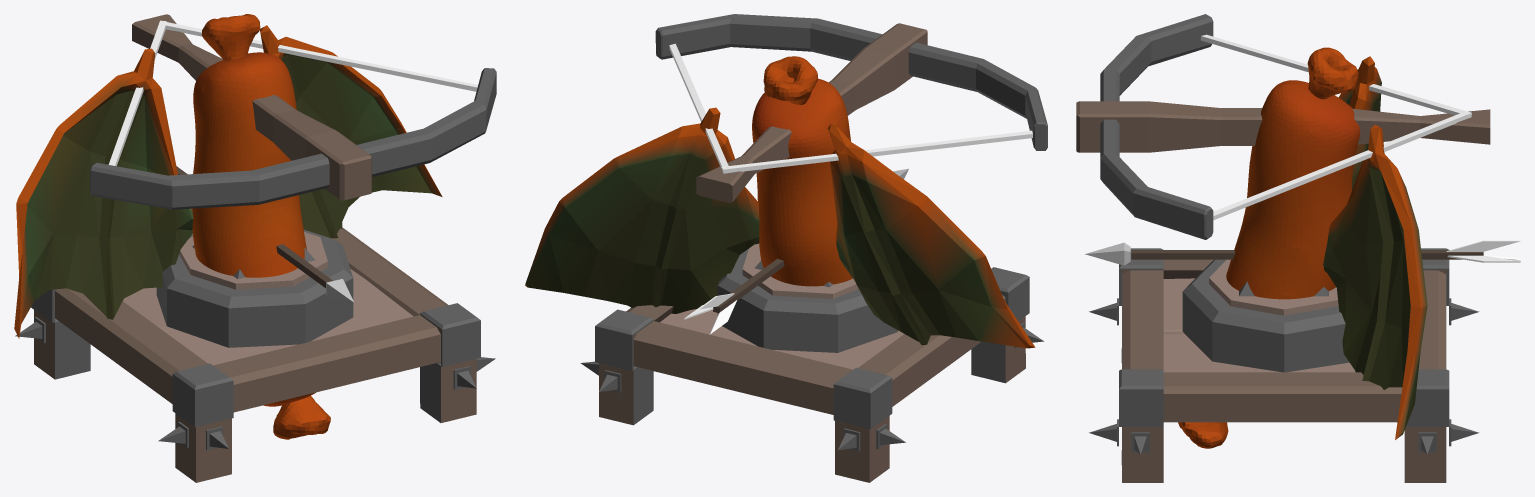
File: ModelsCuyWars.fbx
3 renders of one model, left to right at view 1: azimuth 30°, elevation 25°; view 2: azimuth 150°, elevation 25°; view 3: azimuth 270°, elevation 25°, orthographic. The views are drawn at different scales.
Visible parts, largest first — view 1: BALLESTA, Alas, Flecha; view 2: Alas, BALLESTA, Flecha; view 3: BALLESTA, Alas, Flecha.
Part boxes in pixels (x1=…): BALLESTA: x1=15, y1=14, x2=496, y2=482; Alas: x1=14, y1=14, x2=442, y2=439; Flecha: x1=176, y1=166, x2=354, y2=302; Alas: x1=525, y1=56, x2=1035, y2=348; BALLESTA: x1=580, y1=14, x2=1047, y2=482; Flecha: x1=684, y1=168, x2=908, y2=334; BALLESTA: x1=1076, y1=14, x2=1490, y2=482; Alas: x1=1178, y1=47, x2=1427, y2=448; Flecha: x1=1085, y1=240, x2=1520, y2=265.
Bounding box in the file's own units: 1198 × 928 × 966.
